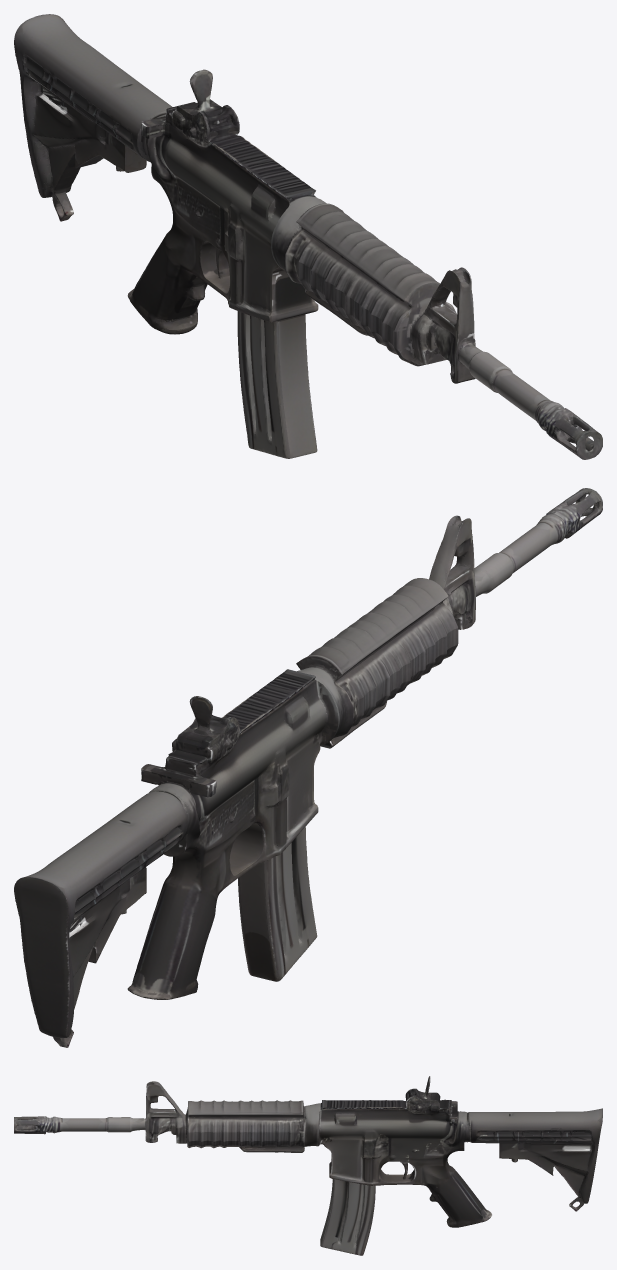
The model's file is base_basic_pbr.glb.
3 renders of one model, top to bottom at view 1: azimuth 30°, elevation 25°; view 2: azimuth 150°, elevation 25°; view 3: azimuth 270°, elevation 25°, orthographic. The views are drawn at different scales.
Parts seen in each view (by area): view 1: model; view 2: model; view 3: model.
Part boxes in pixels (left/top/right/bottom): model: left=14, top=14, right=602, bottom=459; model: left=14, top=488, right=602, bottom=1047; model: left=14, top=1076, right=602, bottom=1255.
Size of the model in its own units: 0.1411 by 0.6239 by 1.9.
Materials: 1 (1 with a texture image).
